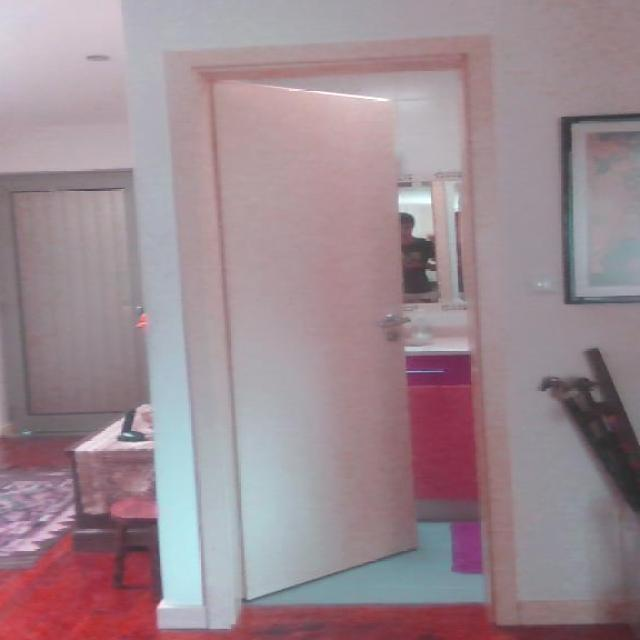door: (208, 77, 419, 601)
